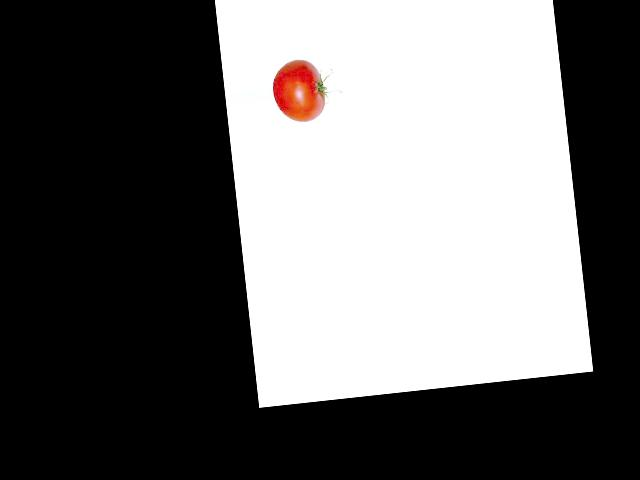tomato: (269, 57, 327, 125)
